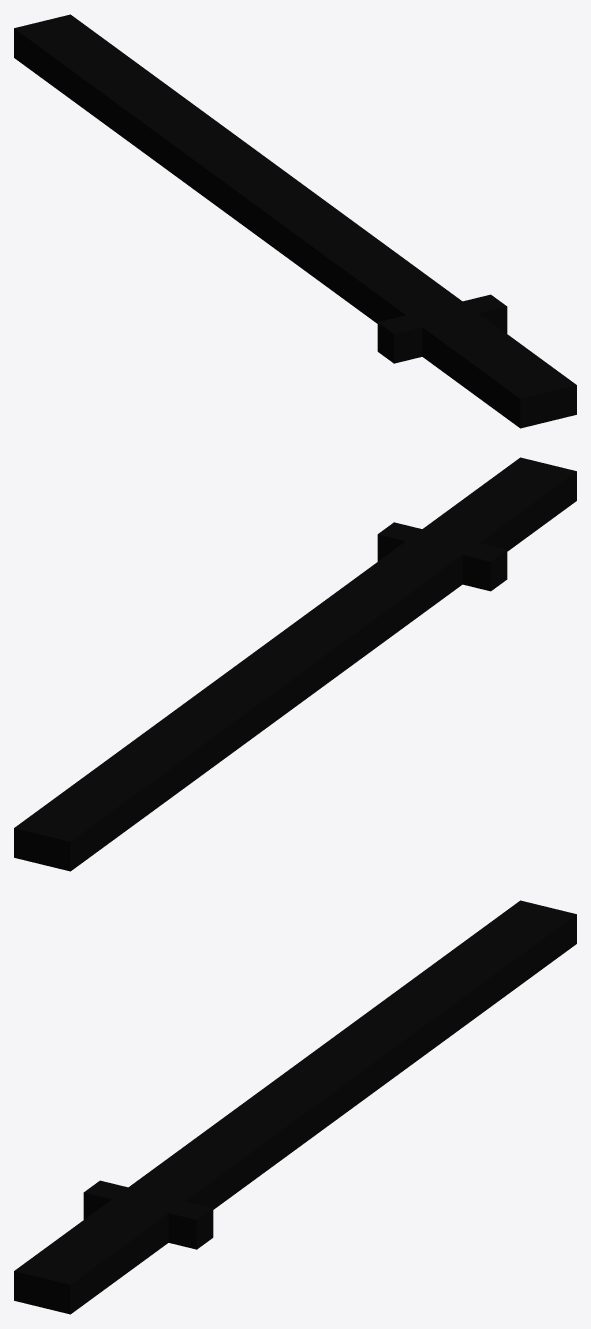
File: longsword.obj
3 renders of one model, top to bottom at view 1: azimuth 30°, elevation 25°; view 2: azimuth 150°, elevation 25°; view 3: azimuth 330°, elevation 25°, orthographic.
Visible parts, largest first — view 1: longsword; view 2: longsword; view 3: longsword.
Part boxes in pixels (box(x1,y1,x2,y2)): longsword: box(14, 14, 576, 428); longsword: box(14, 457, 576, 871); longsword: box(14, 900, 576, 1314).
Bounding box in the file's own units: 0.4 × 0.1 × 3.1.
1 material, 1 textured.
